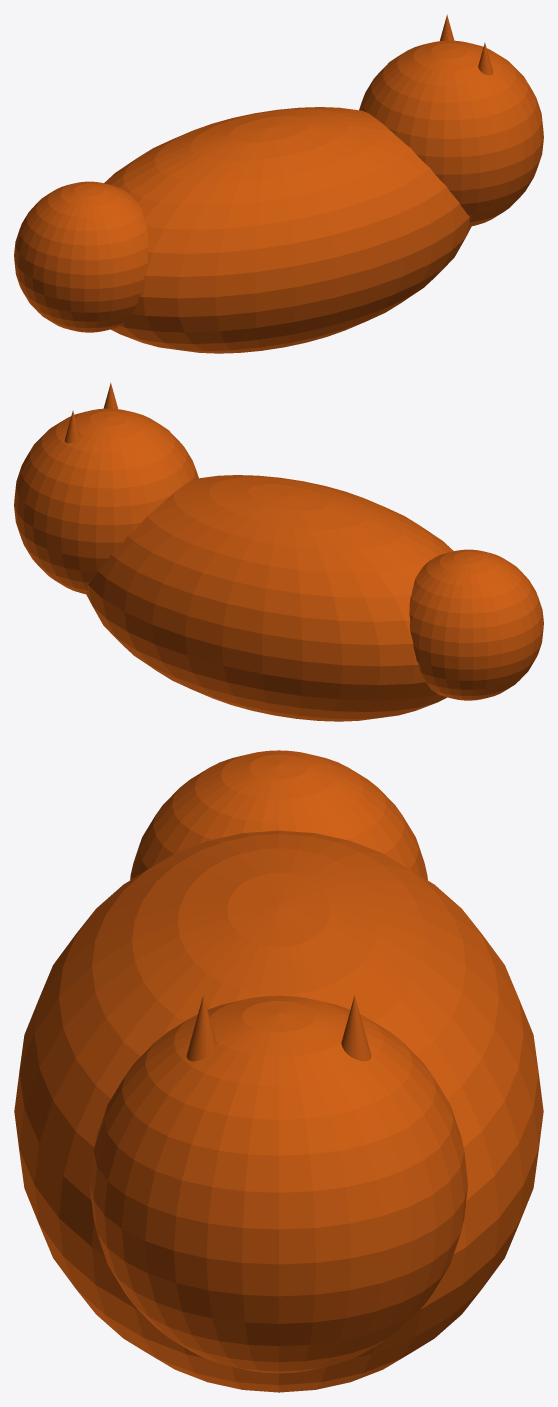
Rendered from fio_figure.glb.
3 views of the same model, one above another, from view 1: azimuth 30°, elevation 25°; view 2: azimuth 150°, elevation 25°; view 3: azimuth 270°, elevation 25° (orthographic). The views are drawn at different scales.
Visible parts, largest first — view 1: Kugel.002; view 2: Kugel.002; view 3: Kugel.002.
Part boxes in pixels (x1=…): Kugel.002: x1=14, y1=14, x2=543, y2=353; Kugel.002: x1=14, y1=382, x2=543, y2=721; Kugel.002: x1=14, y1=750, x2=543, y2=1392.
Size of the model in its own units: 3.1 by 1.5 by 1.4.
